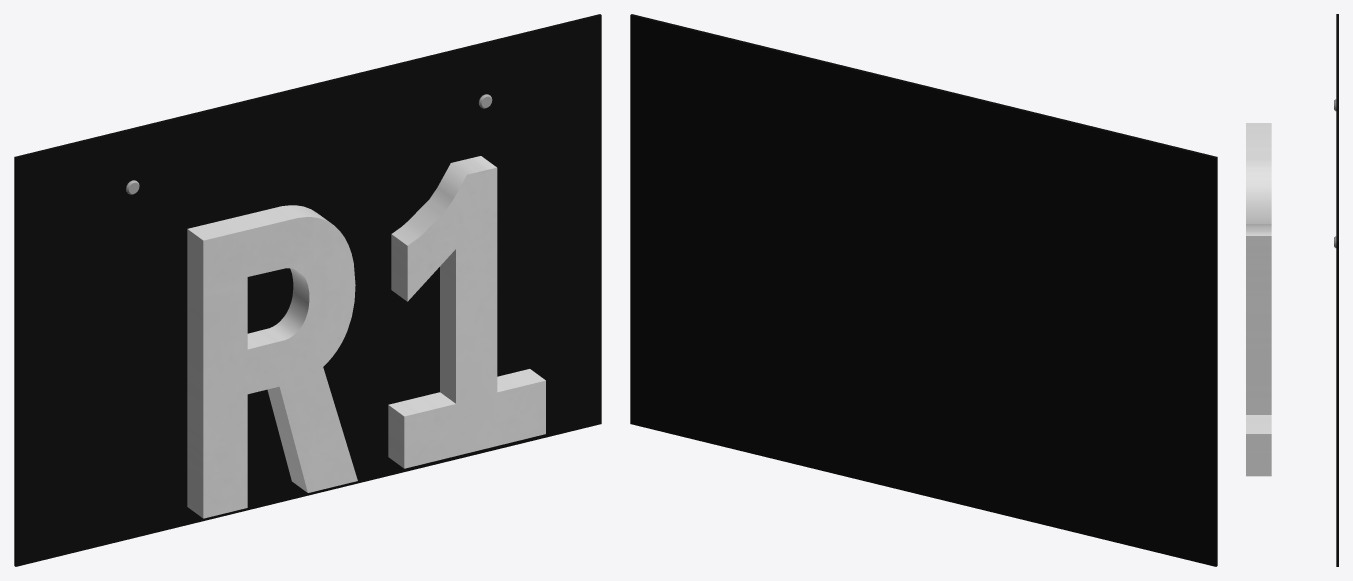
Rendered from room1.glb.
3 views of the same model, side by side, from view 1: azimuth 30°, elevation 25°; view 2: azimuth 150°, elevation 25°; view 3: azimuth 270°, elevation 25° (orthographic). The views are drawn at different scales.
Visible parts, largest first — view 1: NumberPlateTwoRow_38, R_9, Object_24; view 2: NumberPlateTwoRow_38; view 3: Object_24, R_9, NumberPlateTwoRow_38.
Part boxes in pixels (box(x1,y1,x2,y2)): NumberPlateTwoRow_38: box(14, 14, 601, 566); R_9: box(187, 205, 357, 518); Object_24: box(388, 156, 545, 468); NumberPlateTwoRow_38: box(630, 14, 1217, 566); Object_24: box(1246, 224, 1271, 476); R_9: box(1246, 123, 1271, 223); NumberPlateTwoRow_38: box(1334, 14, 1338, 566).
Size of the model in its own units: 0.4726 by 0.3151 by 0.0814.
Materials: 1 (1 with a texture image).
